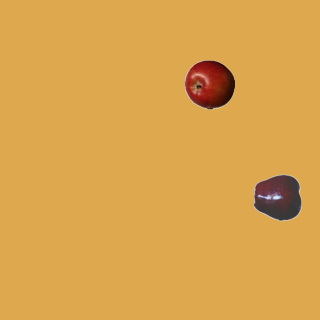Apple Braeburn: (184, 59, 234, 109)
Apple Red Delicious: (253, 172, 303, 222)
